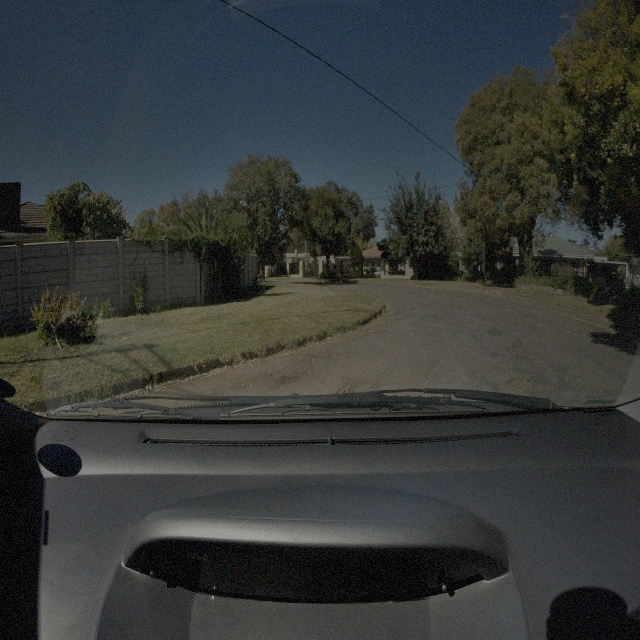pothole: (505, 377, 541, 393), (507, 344, 527, 356)
